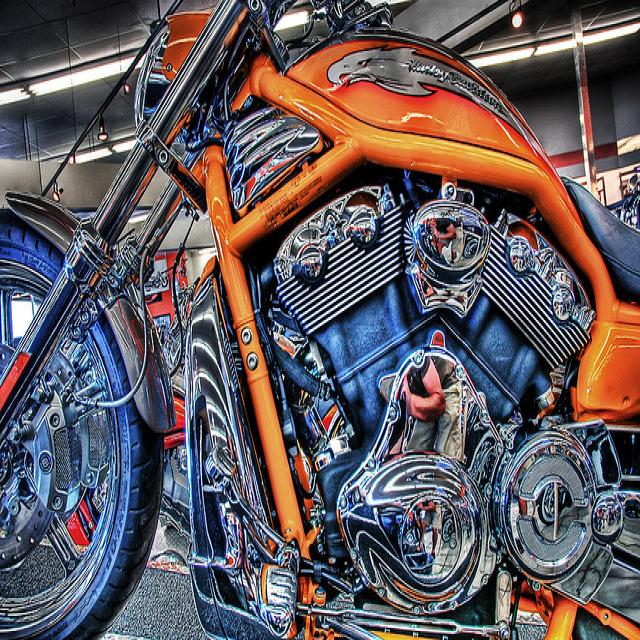motor: (0, 1, 640, 633)
